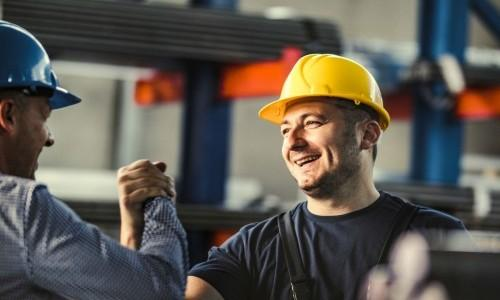helmet: (259, 55, 391, 133), (1, 21, 89, 105)
